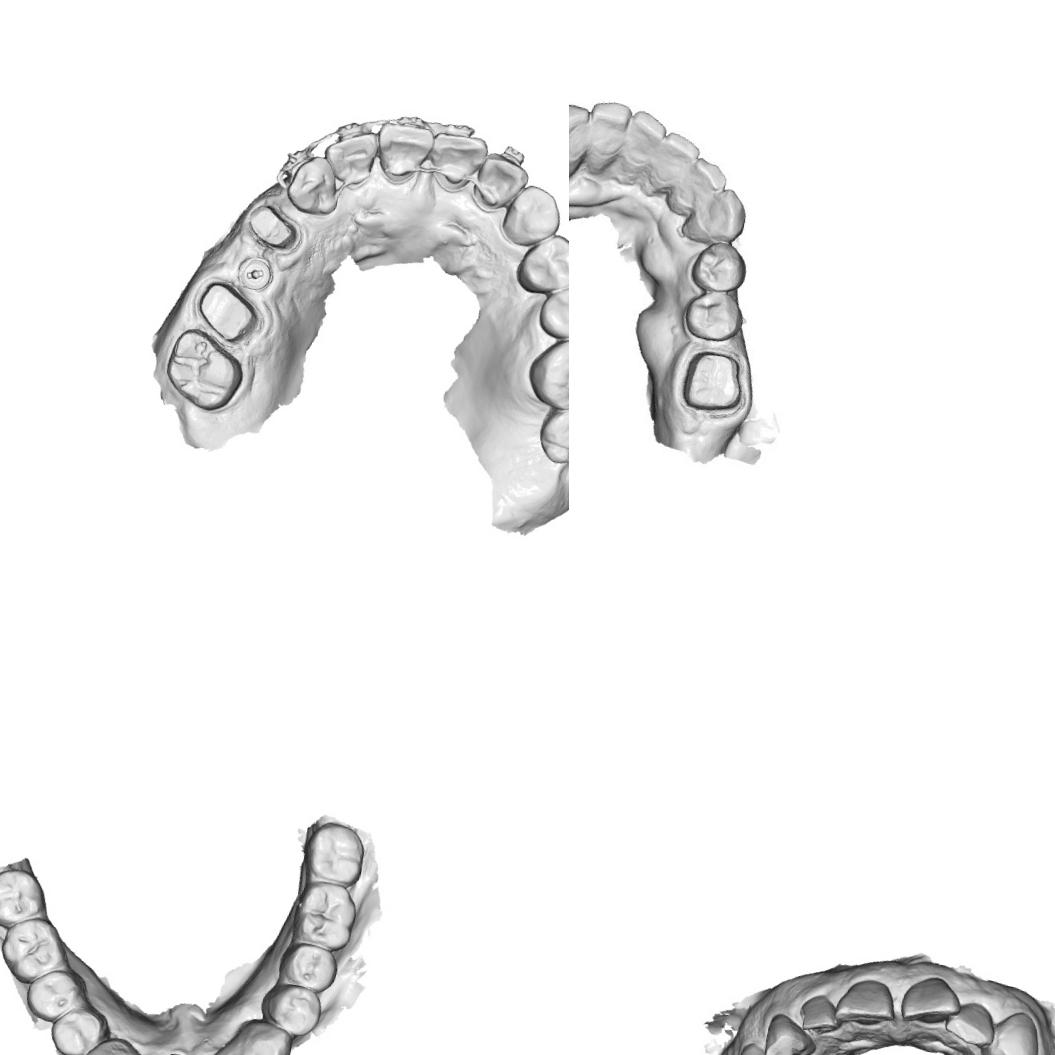canine: (496, 178, 565, 254), (677, 181, 752, 248), (281, 146, 348, 219), (977, 1004, 1048, 1055), (756, 1007, 828, 1055), (232, 1015, 298, 1055), (569, 94, 595, 173), (75, 1028, 137, 1055)
crown: (182, 268, 276, 353), (674, 342, 757, 423), (234, 196, 312, 258)
implant_minus: (232, 248, 277, 296)
incisor: (417, 122, 492, 198), (465, 147, 534, 221), (830, 970, 904, 1039), (368, 116, 436, 189), (317, 120, 382, 192), (896, 970, 965, 1034), (580, 96, 630, 176), (939, 994, 1003, 1055), (648, 126, 699, 197), (674, 150, 728, 216), (618, 110, 665, 183), (792, 988, 846, 1044), (207, 1042, 263, 1055)
molar: (156, 322, 252, 419), (0, 907, 73, 992), (288, 877, 362, 954), (297, 814, 370, 890), (520, 321, 569, 419), (0, 859, 53, 937), (531, 392, 569, 472)
premolar: (509, 225, 569, 304), (20, 962, 89, 1030), (255, 978, 327, 1040), (682, 285, 748, 348), (273, 936, 341, 997), (43, 998, 111, 1055), (686, 235, 748, 296), (530, 274, 569, 349)
